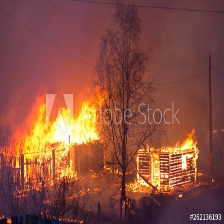fire: (5, 91, 104, 183), (121, 135, 201, 193)
